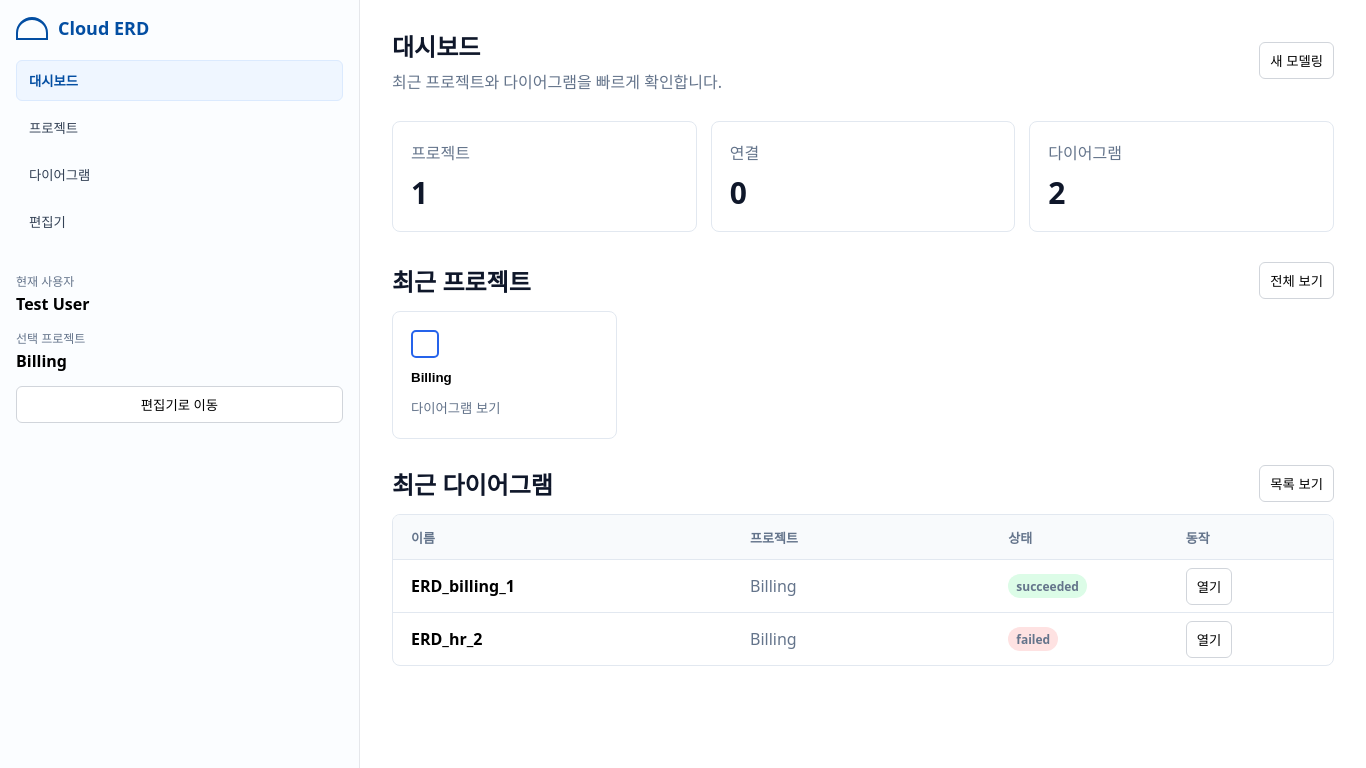
Scenario: App edit functionality › filters the diagram list by search text
Click the button "다이어그램" at [60, 176], box [16,154,343,195]
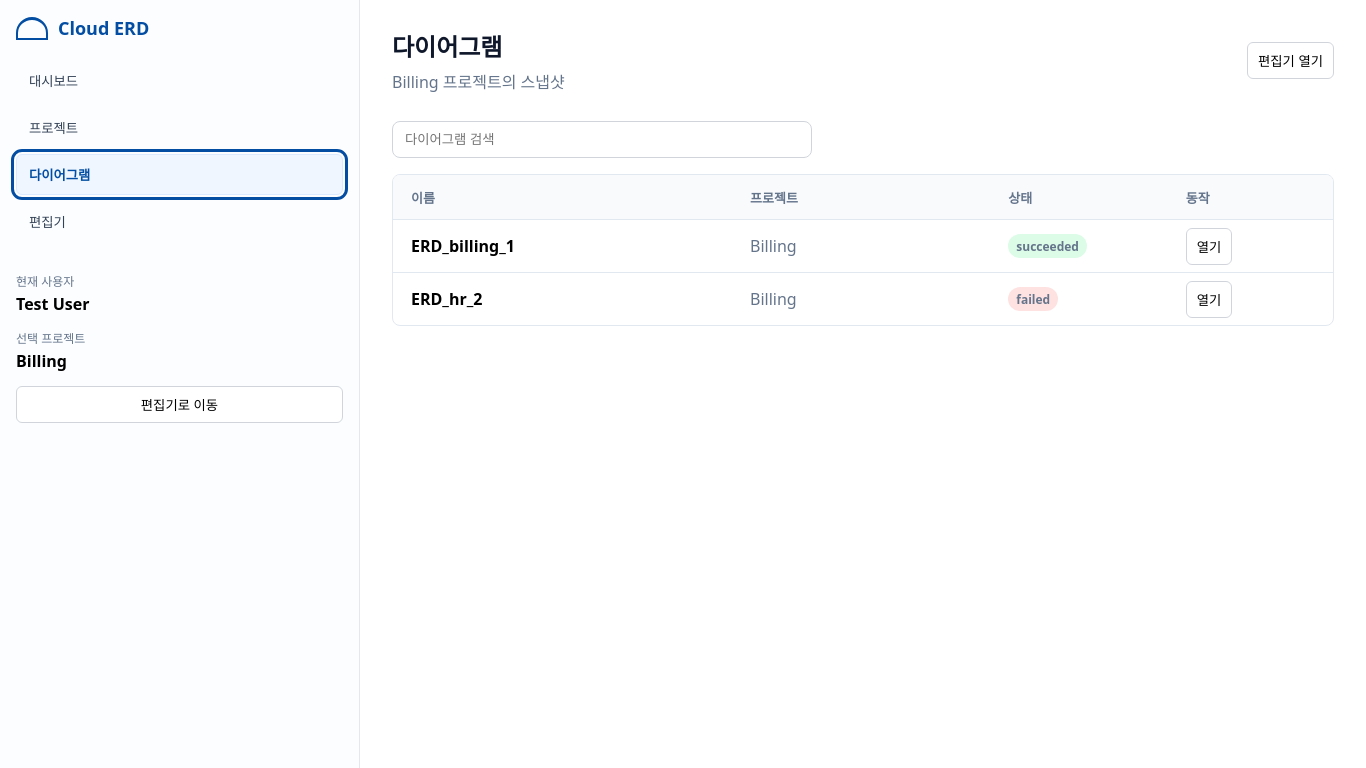
Check: the text "ERD_billing_1" is shown, box [411,235,515,257]
Type "hr" into the search field labelled "다이어그램 검색" at [602, 140], box [392,121,812,158]
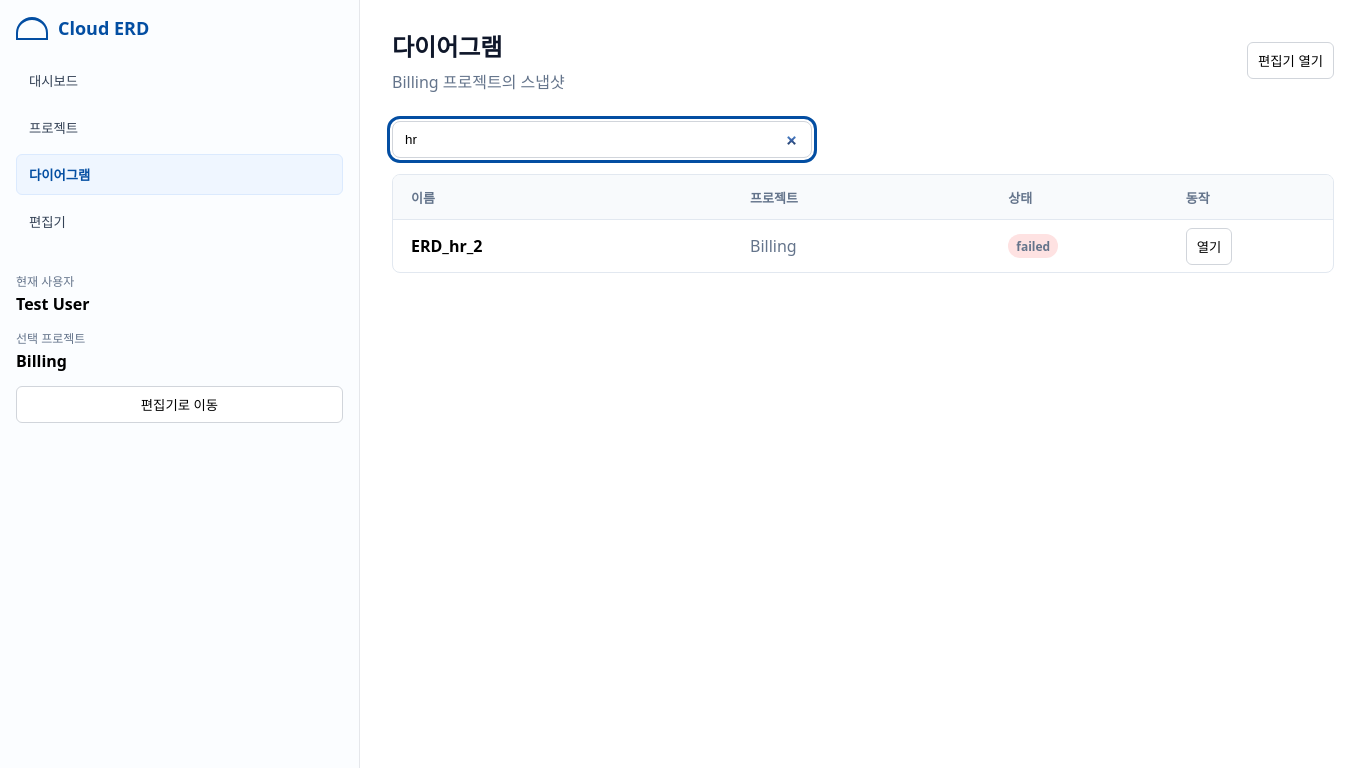
Check: the text "ERD_hr_2" is shown, box [411,235,482,257]
Check: the text "ERD_billing_1" is gone
